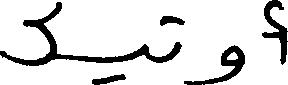X: (0, 0, 58, 70), (186, 40, 243, 84), (265, 0, 287, 69), (176, 12, 180, 59), (143, 39, 147, 63)
